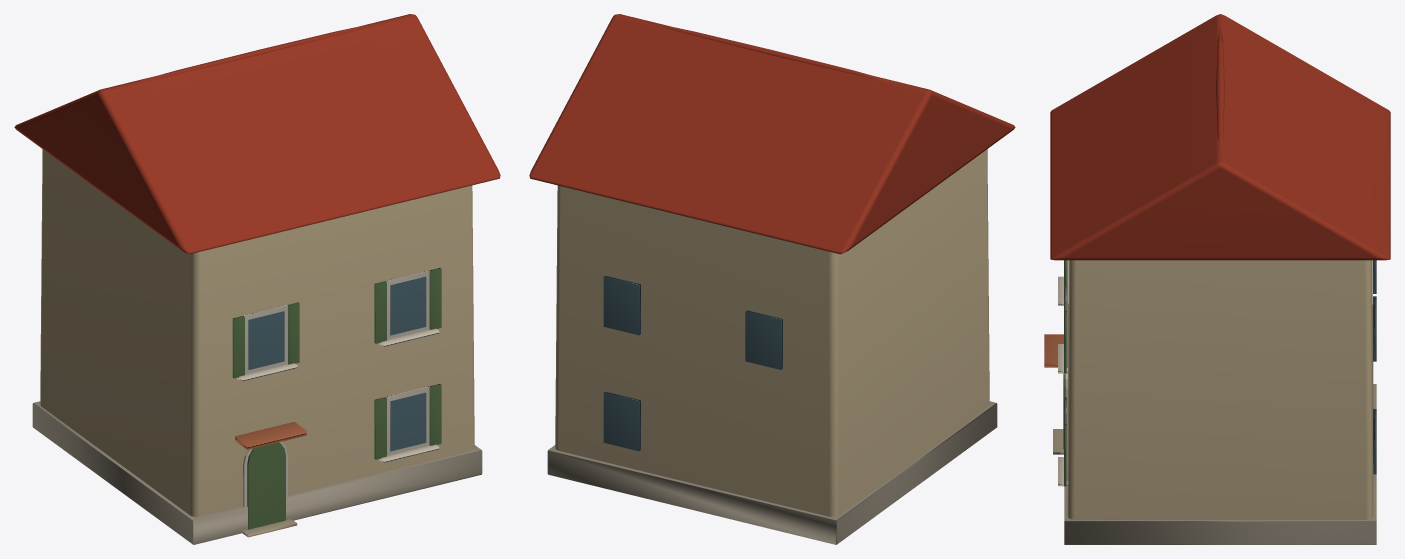
Rendered from house_13.glb.
3 renders of one model, left to right at view 1: azimuth 30°, elevation 25°; view 2: azimuth 150°, elevation 25°; view 3: azimuth 270°, elevation 25°, orthographic. The views are drawn at different scales.
Visible parts, largest first — view 1: house_13; view 2: house_13; view 3: house_13.
Part boxes in pixels (box(x1,y1,x2,y2)): house_13: box(14, 14, 500, 544); house_13: box(529, 14, 1015, 544); house_13: box(1044, 14, 1390, 544).
Size of the model in its own units: 8.07 by 9.72 by 7.78.
